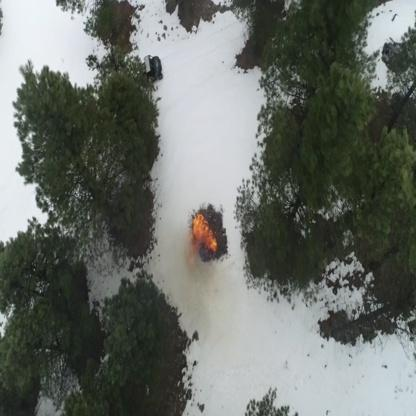Fire: (190, 212, 217, 253)
